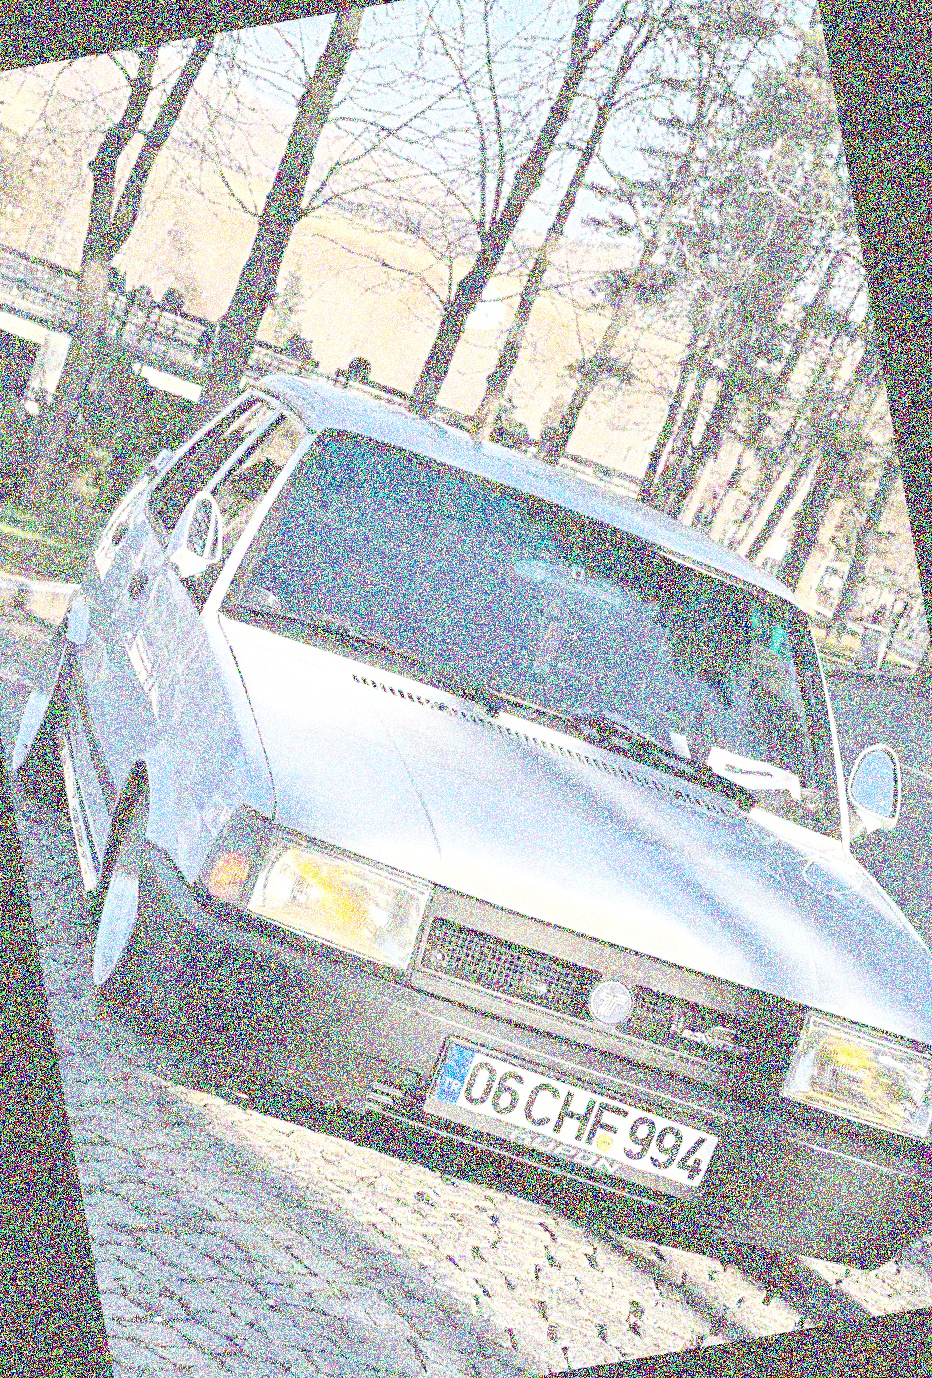plaka: (453, 1029, 720, 1186)
